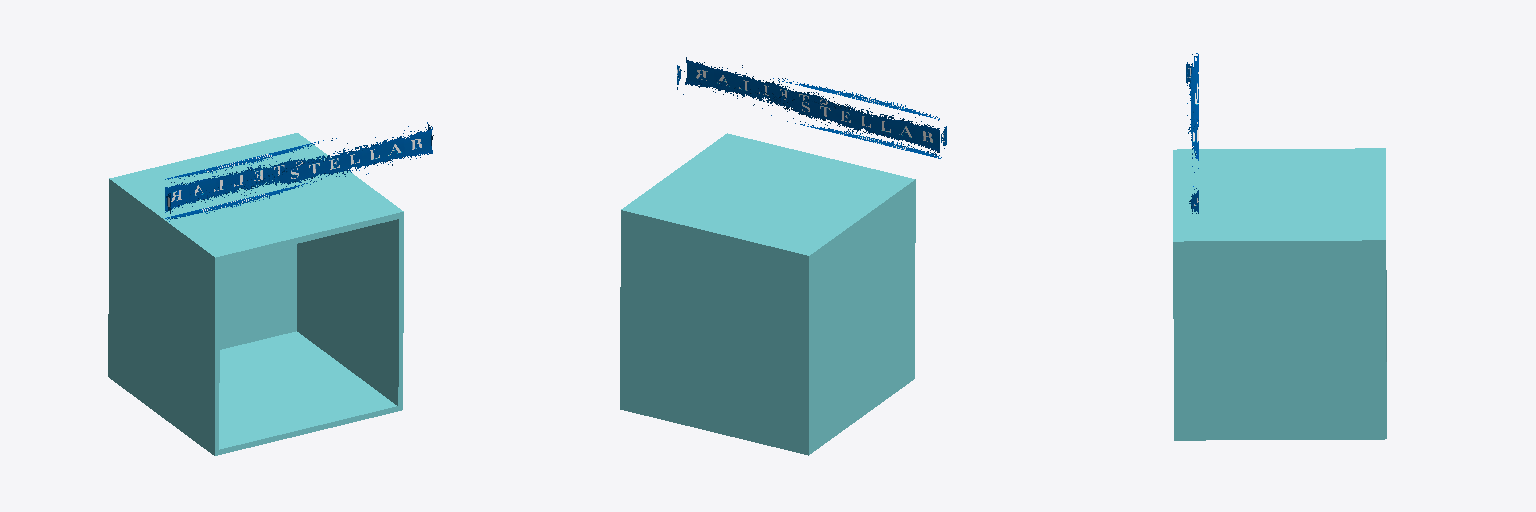
The picture shows the model from 3 angles: view 1: azimuth 30°, elevation 25°; view 2: azimuth 150°, elevation 25°; view 3: azimuth 270°, elevation 25°; orthographic projection.
Visible parts, largest first — view 1: Cubo, Cube; view 2: Cubo, Cube; view 3: Cubo, Cube.
Boxes of the visible parts, x1,y1,x2,y2 form: Cubo: [108, 133, 403, 455]; Cube: [165, 122, 433, 221]; Cubo: [620, 133, 915, 455]; Cube: [677, 57, 946, 158]; Cubo: [1173, 148, 1386, 440]; Cube: [1186, 53, 1198, 213].
Bounding box in the file's own units: 4.12 × 4.14 × 2.89.
2 materials, 2 textured.